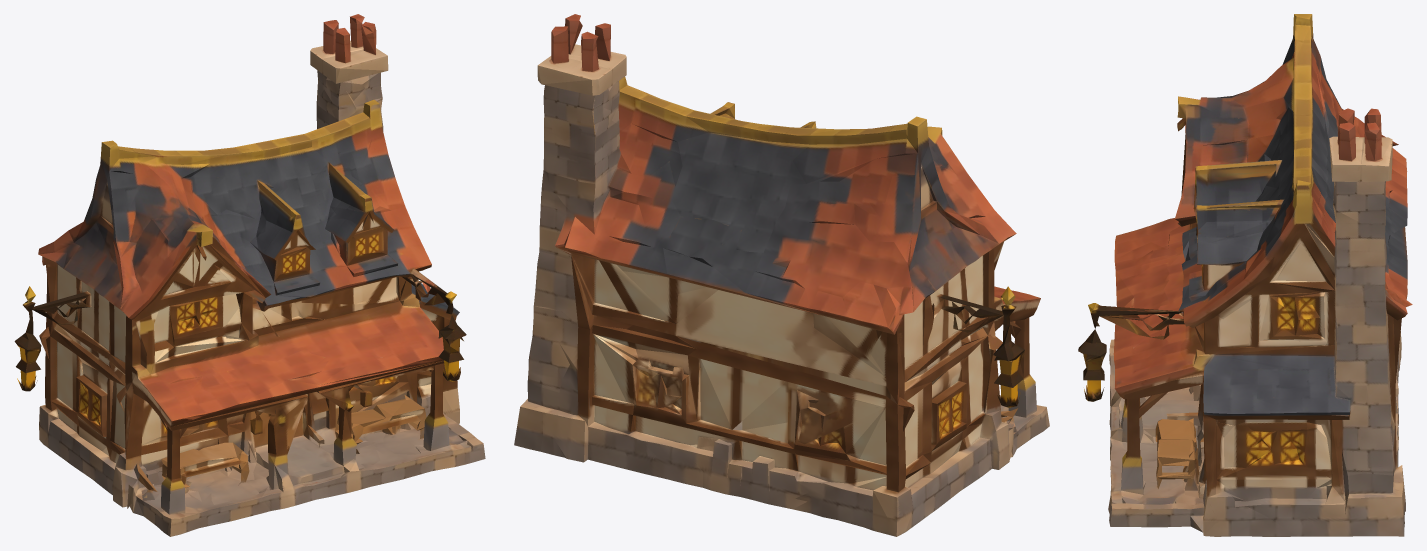
The model's file is TWN_STR_tavern_A.glb.
The picture shows the model from 3 angles, left to right: view 1: azimuth 30°, elevation 25°; view 2: azimuth 150°, elevation 25°; view 3: azimuth 270°, elevation 25°; orthographic projection. The views are drawn at different scales.
Visible parts, largest first — view 1: Mesh_0; view 2: Mesh_0; view 3: Mesh_0.
Part boxes in pixels (box(x1,y1,x2,y2)): Mesh_0: box(14, 14, 485, 536); Mesh_0: box(514, 14, 1049, 536); Mesh_0: box(1078, 14, 1412, 536).
Size of the model in its own units: 1.9 by 1.65 by 1.26.
Materials: 1 (1 with a texture image).
